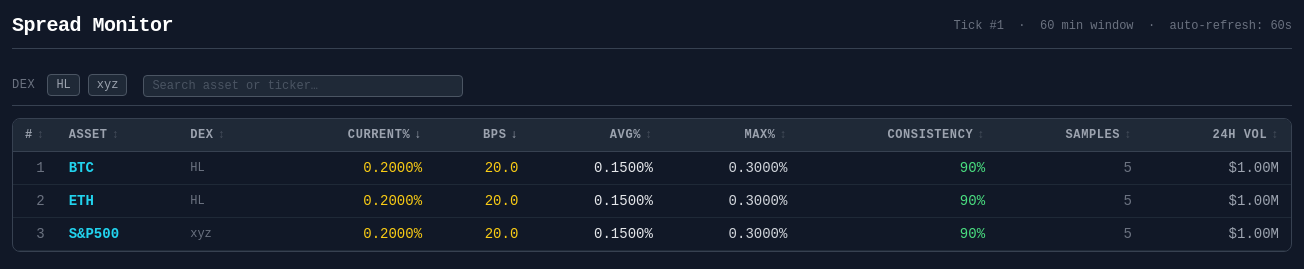
Scenario: SpreadMonitor › filter bar integration › restores all rows after clicking Clear
This screenshot has width=1304, height=269.
Type "btc" into the field. click: x=303, y=86
box: [143,75,463,97]
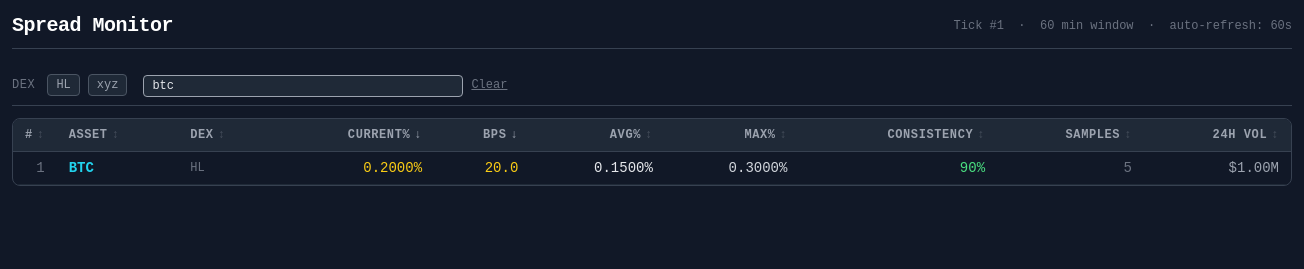
Now the text "ETH" is gone
Click the button "Clear". click: x=489, y=85
box: [471,77,507,93]
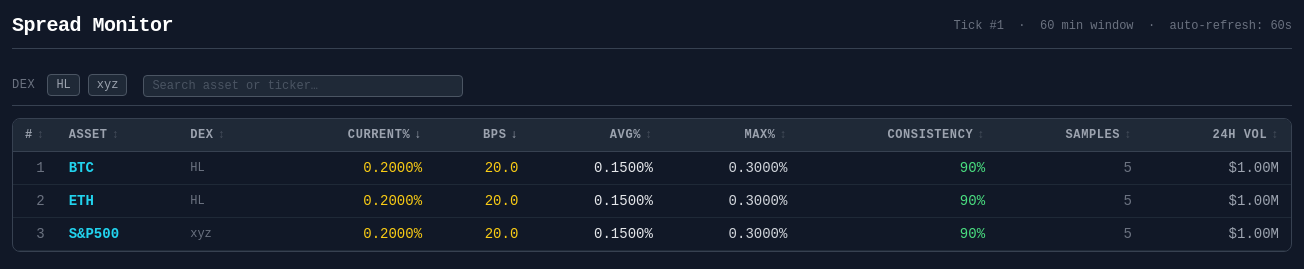
Expected: the text "BTC" is shown, [57,152,178,184]
Now the text "ETH" is shown, box [57,184,178,218]
Now the text "S&P500" is shown, box [57,218,178,250]
